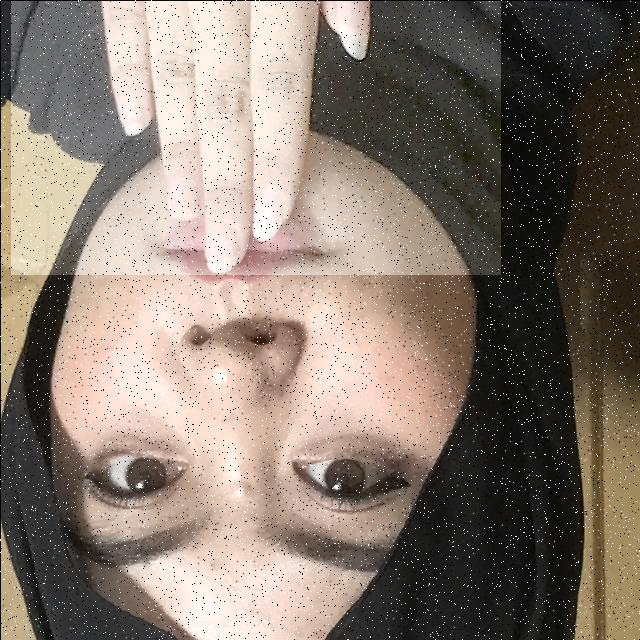ganteng: (10, 0, 500, 274)
